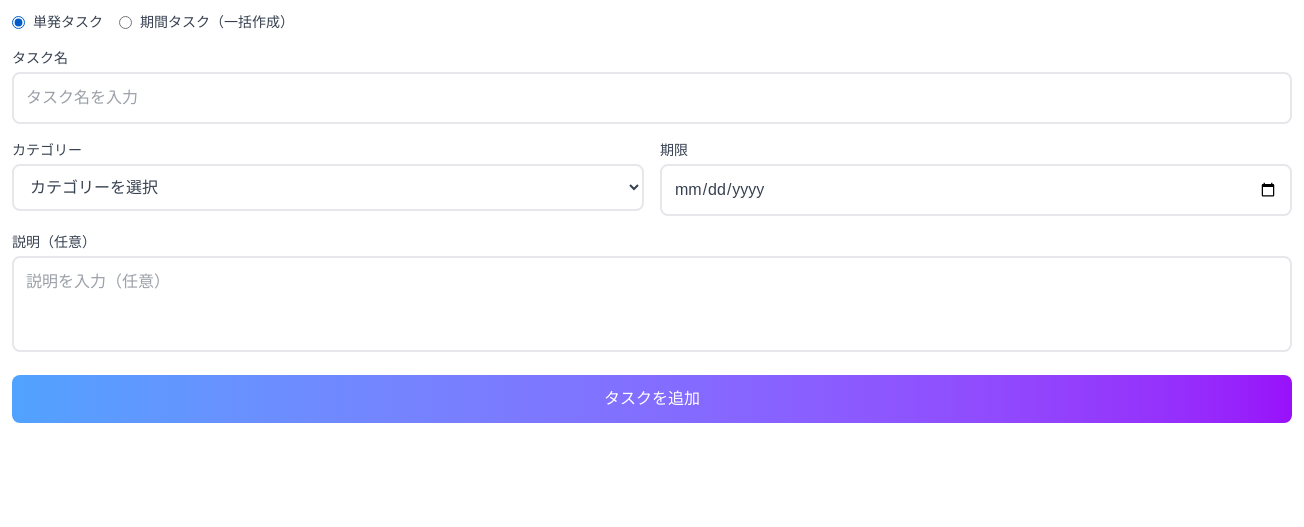
タスク作成機能 › 一括作成機能 › 期間タスクモードに切り替えできること
Click the radio button labelled "期間タスク（一括作成）".
click(126, 22)  # box [119, 16, 132, 28]
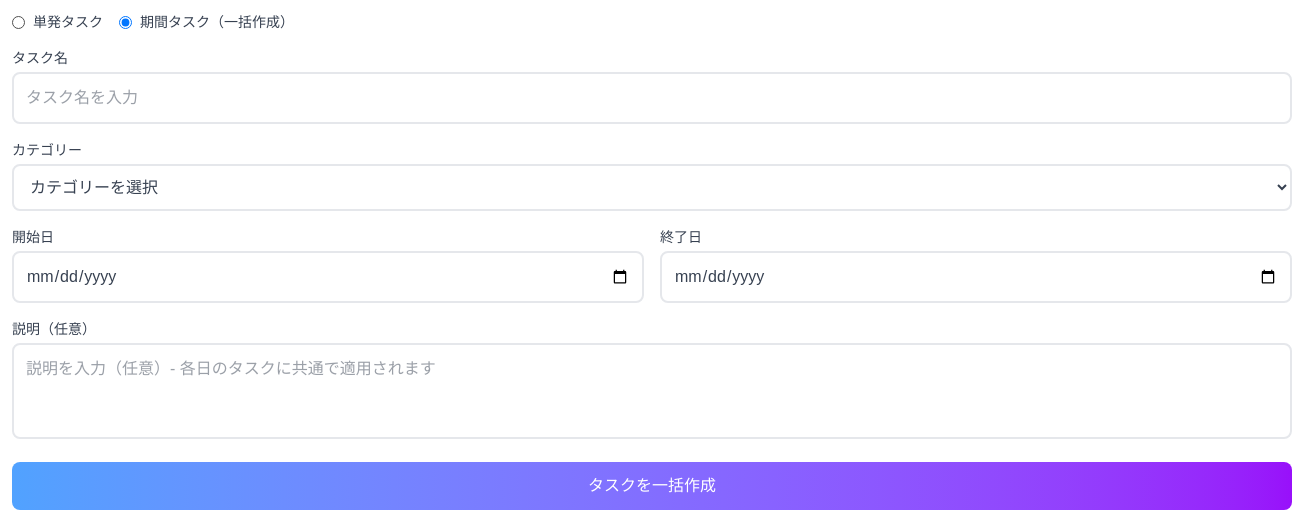
Check: the radio button labelled "期間タスク（一括作成）" is checked, box [119, 16, 132, 28]
Check: the button "タスクを一括作成" is shown, box [12, 462, 1292, 510]
Check: the date field labelled "開始日" is shown, box [12, 251, 644, 303]
